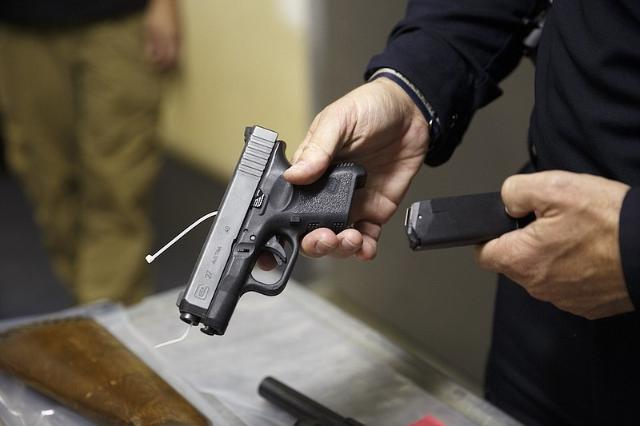handgun: (173, 120, 373, 338)
